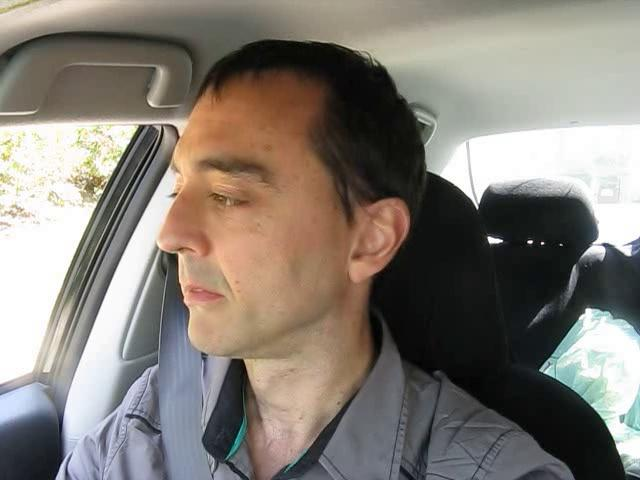close_eyeR: (195, 179, 265, 220)
no_yawn: (174, 273, 237, 314)
